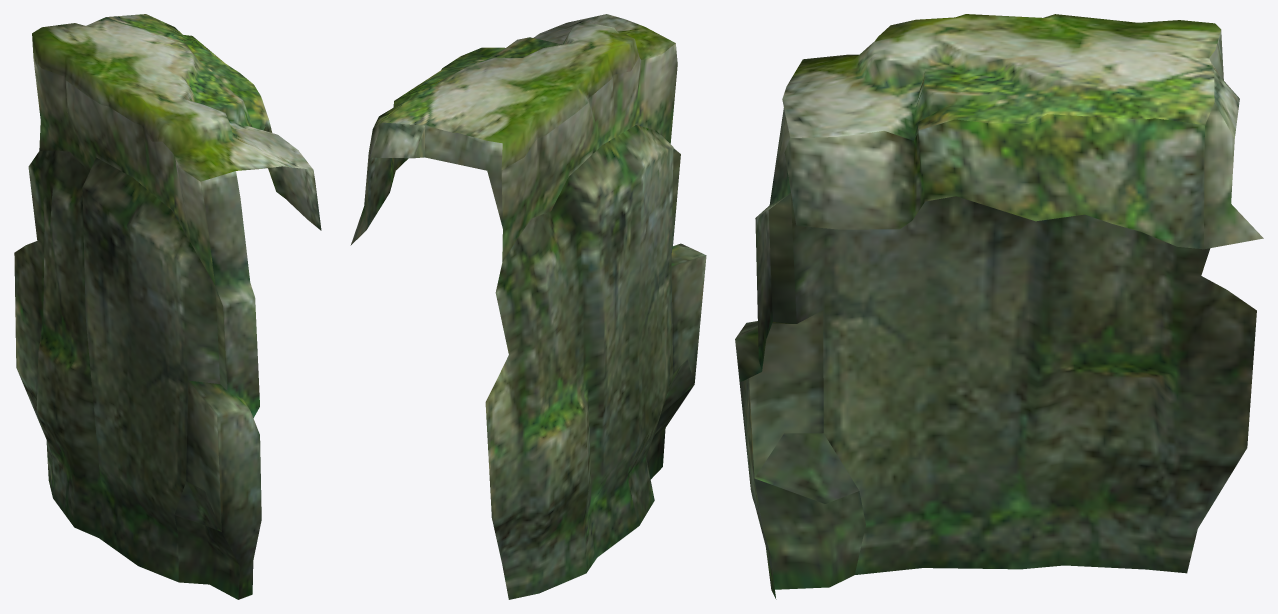
Rendered from S_Rock_Green048_1060_20.fbx.
The picture shows the model from 3 angles, left to right: view 1: azimuth 30°, elevation 25°; view 2: azimuth 150°, elevation 25°; view 3: azimuth 270°, elevation 25°; orthographic projection. The views are drawn at different scales.
Parts seen in each view (by area): view 1: S_Rock_Green048_1060_20; view 2: S_Rock_Green048_1060_20; view 3: S_Rock_Green048_1060_20.
Part boxes in pixels (box(x1,y1,x2,y2)): S_Rock_Green048_1060_20: box(14, 14, 321, 599); S_Rock_Green048_1060_20: box(350, 14, 706, 599); S_Rock_Green048_1060_20: box(735, 14, 1263, 599).
Size of the model in its own units: 781 by 2072 by 1761.
Materials: 1 (1 with a texture image).
